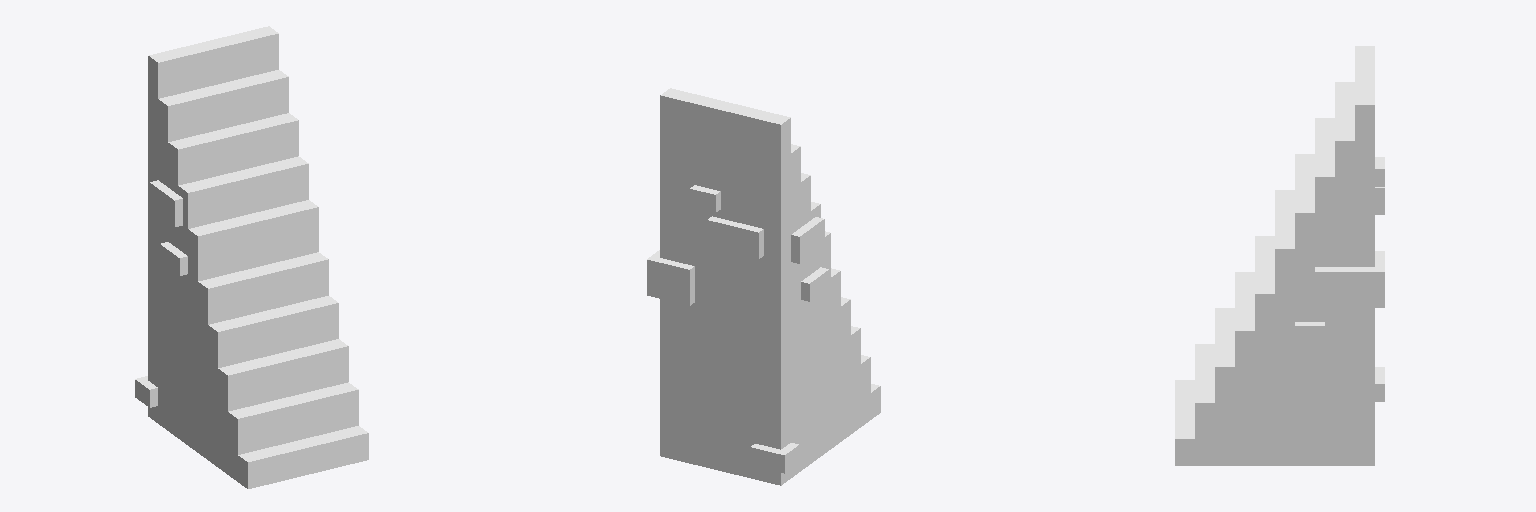
Rendered from ExtraProp-2-Stairs.obj.
The picture shows the model from 3 angles: view 1: azimuth 30°, elevation 25°; view 2: azimuth 150°, elevation 25°; view 3: azimuth 270°, elevation 25°; orthographic projection.
Parts seen in each view (by area): view 1: Stairs; view 2: Stairs; view 3: Stairs.
Part boxes in pixels (x1,y1,x2,y2): Stairs: (135,26,368,488); Stairs: (647,88,880,485); Stairs: (1175,46,1384,465).
Size of the model in its own units: 1.6 by 4 by 2.1.